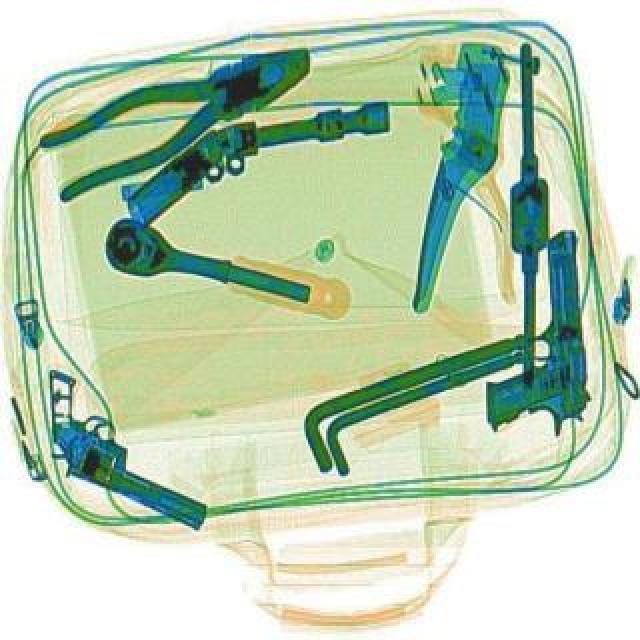gun: (4, 364, 240, 532), (468, 226, 592, 440)
wrench: (26, 22, 326, 202)
